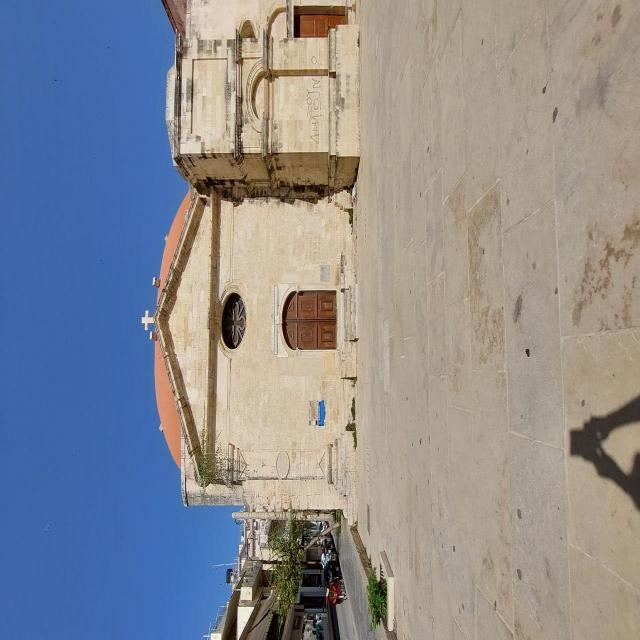Agia Aikaterini: (62, 301, 270, 640)
